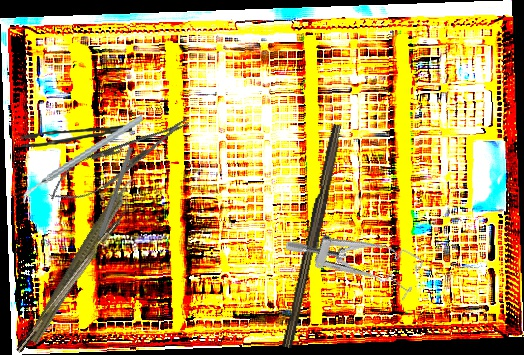Chopper: (8, 193, 139, 354), (11, 113, 155, 206)
Handpiece: (23, 162, 150, 349)
Hook Surgical: (90, 146, 134, 259)
Needle Holder: (41, 105, 198, 214)
Scalpel Handle: (281, 123, 347, 350)
Speculum: (282, 198, 428, 313)
Tissue Forceps: (20, 125, 132, 147)
